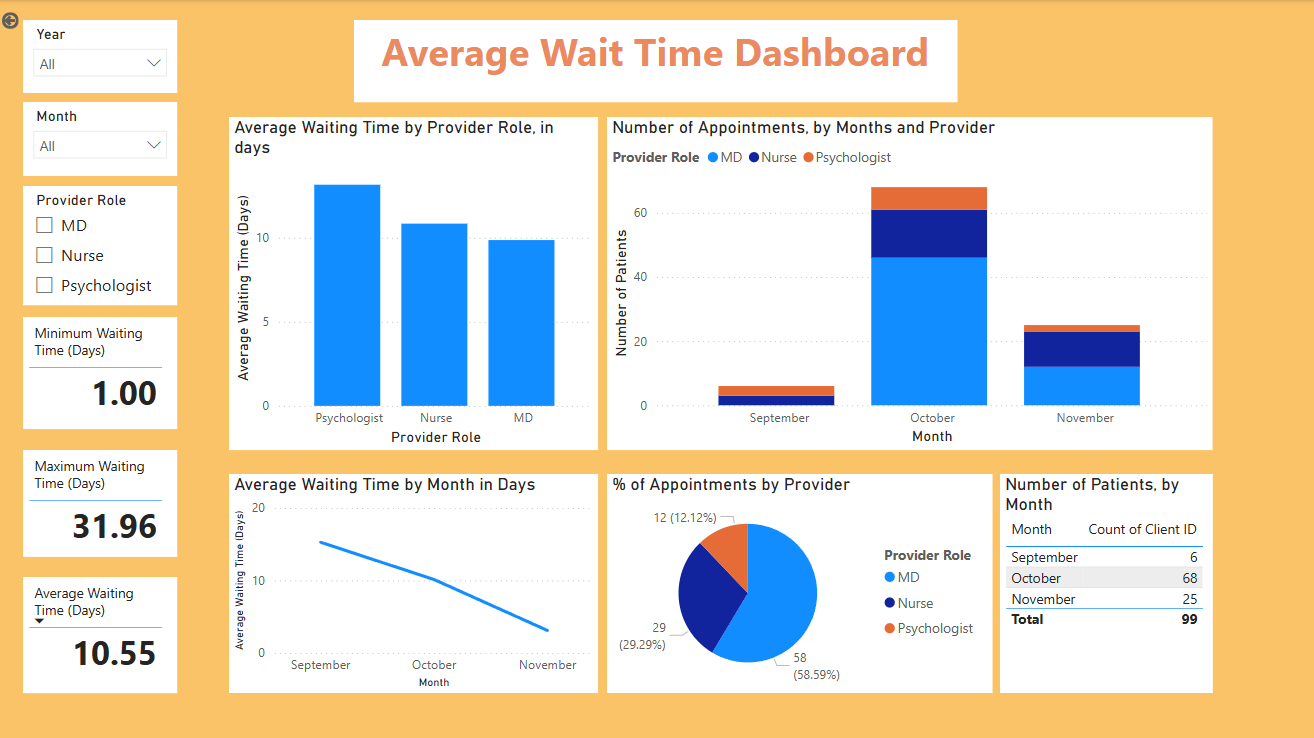

What the dashboard file says about the page in this screenshot:
{"tool":"powerbi","page":{"name":"Page 1","canvas":[1280,720],"ordinal":0},"visuals":[{"type":"textbox","box":[346.3,19.5,586.5,79.8],"z":0},{"type":"slicer","fields":{"Values":["Appointment_Scheduling_Cleaned_Final.Requesting date.Variation.Date Hierarchy.Year"]},"box":[24,19,149.9,70.9],"z":1000},{"type":"slicer","fields":{"Values":["Appointment_Scheduling_Cleaned_Final.Requesting date.Variation.Date Hierarchy.Month"]},"box":[24,98.9,149.9,71.9],"z":2000},{"type":"slicer","fields":{"Values":["Appointment_Scheduling_Cleaned_Final.Provider Role"]},"box":[24,180.9,149.9,115.9],"z":3000},{"type":"columnChart","title":"Number of Appointments, by Months and Provider ","fields":{"Category":["Appointment_Scheduling_Cleaned_Final.Appointment date.Variation.Date Hierarchy.Month"],"Y":["CountNonNull(Appointment_Scheduling_Cleaned_Final.Client ID)"],"Series":["Appointment_Scheduling_Cleaned_Final.Provider Role"]},"box":[592.3,113.8,589.4,323.9],"z":4000},{"type":"tableEx","title":"Number of Patients, by Month","fields":{"Values":["Appointment_Scheduling_Cleaned_Final.Appointment date.Variation.Date Hierarchy.Month","CountNonNull(Appointment_Scheduling_Cleaned_Final.Client ID)"]},"box":[974.6,461,207.2,213],"z":5000},{"type":"pieChart","title":"% of Appointments by Provider","fields":{"Category":["Appointment_Scheduling_Cleaned_Final.Provider Role"],"Y":["CountNonNull(Appointment_Scheduling_Cleaned_Final.Client ID)"]},"box":[592.3,461,375.4,213],"z":6000},{"type":"lineChart","title":"Average Waiting Time by Month in Days","fields":{"Category":["Appointment_Scheduling_Cleaned_Final.Requesting date.Variation.Date Hierarchy.Month"],"Y":["Appointment_Scheduling_Cleaned_Final.Average Waiting Time (Days)"]},"box":[224.7,461,358.9,213],"z":7000},{"type":"clusteredColumnChart","title":"Average Waiting Time by Provider Role, in days","fields":{"Category":["Appointment_Scheduling_Cleaned_Final.Provider Role"],"Y":["Appointment_Scheduling_Cleaned_Final.Average Waiting Time (Days)"]},"box":[224.7,113.8,358.9,323.9],"z":8000},{"type":"tableEx","fields":{"Values":["Appointment_Scheduling_Cleaned_Final.Minimum Waiting Time (Days)"]},"box":[24.3,308.3,149.8,108.9],"z":9000},{"type":"tableEx","fields":{"Values":["Appointment_Scheduling_Cleaned_Final.Maximum Waiting Time (Days)"]},"box":[24.3,437.7,149.8,104.1],"z":10000},{"type":"tableEx","fields":{"Values":["Appointment_Scheduling_Cleaned_Final.Average Waiting Time (Days)"]},"box":[24.3,561.2,149.8,112.8],"z":11000},{"type":"actionButton","box":[0,0,100,40],"z":12000}]}

Visuals, with their boxes in screenshot pixels (x1, y1, x2, y2), scaled from the page's 1280x720 canvas onto the 1314x738 screenshot:
textbox: box=[355, 20, 958, 102]
slicer - Appointment_Scheduling_Cleaned_Final.Requesting date.Variation.Date Hierarchy.Year: box=[25, 19, 179, 92]
slicer - Appointment_Scheduling_Cleaned_Final.Requesting date.Variation.Date Hierarchy.Month: box=[25, 101, 179, 175]
slicer - Appointment_Scheduling_Cleaned_Final.Provider Role: box=[25, 185, 179, 304]
"Number of Appointments, by Months and Provider " columnChart: box=[608, 117, 1213, 449]
"Number of Patients, by Month" tableEx: box=[1000, 473, 1213, 691]
"% of Appointments by Provider" pieChart: box=[608, 473, 993, 691]
"Average Waiting Time by Month in Days" lineChart: box=[231, 473, 599, 691]
"Average Waiting Time by Provider Role, in days" clusteredColumnChart: box=[231, 117, 599, 449]
tableEx - Appointment_Scheduling_Cleaned_Final.Minimum Waiting Time (Days): box=[25, 316, 179, 428]
tableEx - Appointment_Scheduling_Cleaned_Final.Maximum Waiting Time (Days): box=[25, 449, 179, 555]
tableEx - Appointment_Scheduling_Cleaned_Final.Average Waiting Time (Days): box=[25, 575, 179, 691]
actionButton: box=[0, 0, 103, 41]
